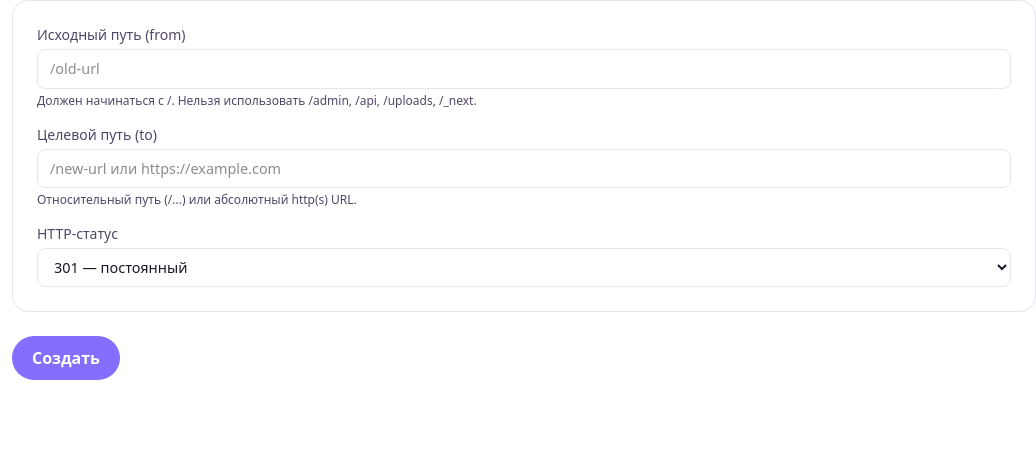
Scenario: RedirectForm › rejects from_path that does not start with /
In the field labelled "Исходный путь (from)": coordinates (524, 69) [37,49,1011,89], type "no-slash"
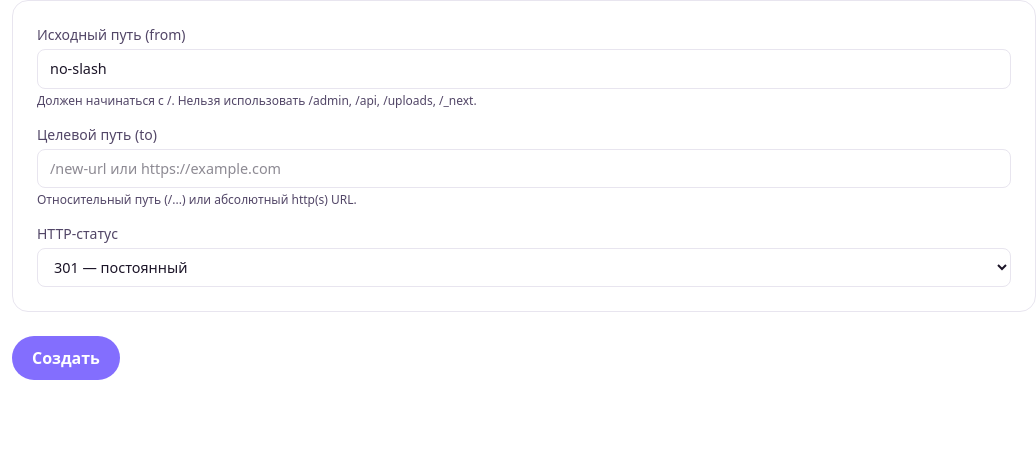
In the field labelled "Целевой путь (to)": coordinates (524, 168) [37,149,1011,188], type "/x"
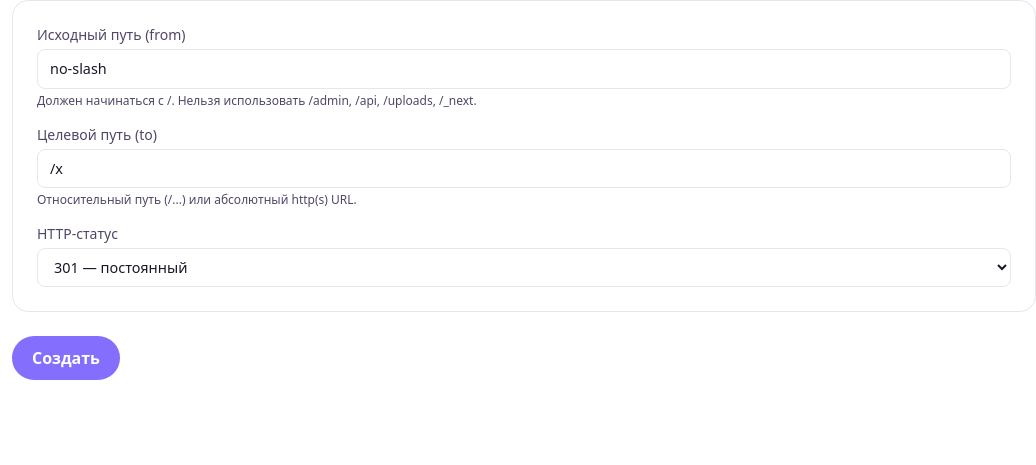
Click the button "Создать": coordinates (66, 358) [12,336,120,380]
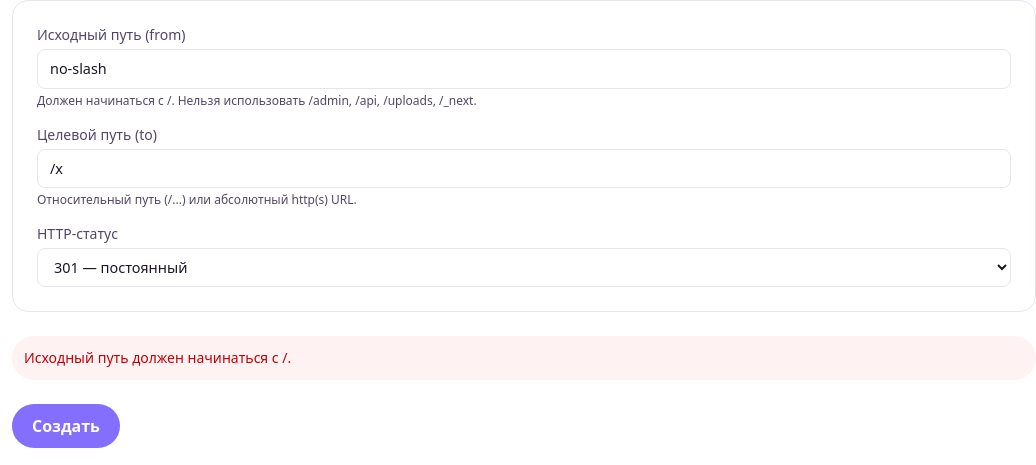
Expected: the message shows "Исходный путь должен начинаться с /", [24,348,291,367]
